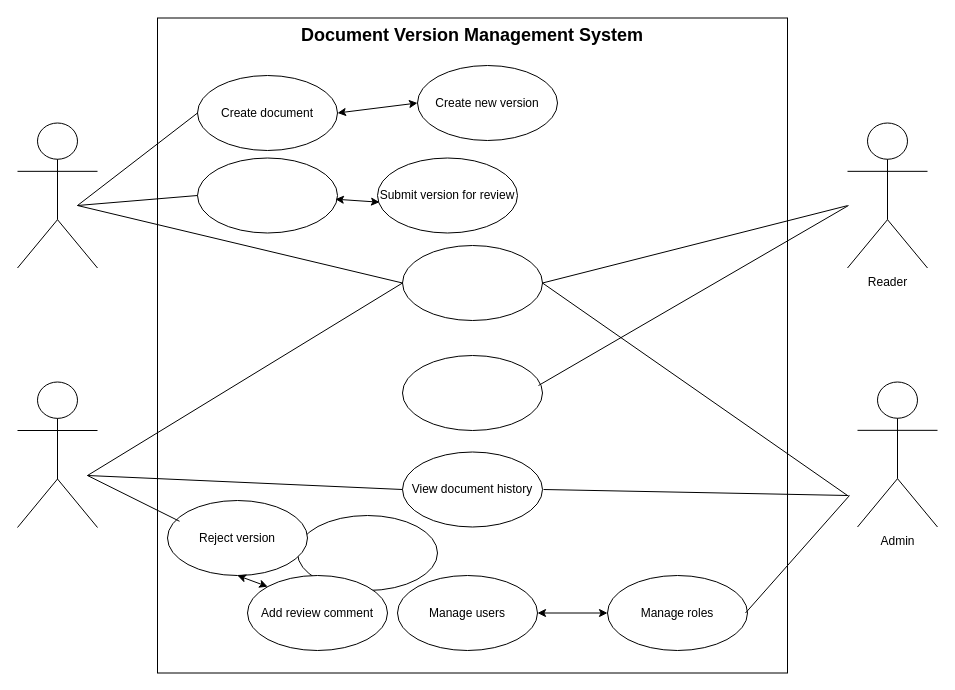
Some shapes in this 955 by 690 pixel diagram are drawn without their labels. Each missing label, with the centre of its shape:
Approve version: the point at 367,552
Author: the point at 57,195
Compare document versions: the point at 267,195
Log in: the point at 472,282
Reviewer: the point at 57,454
View active document: the point at 472,392
